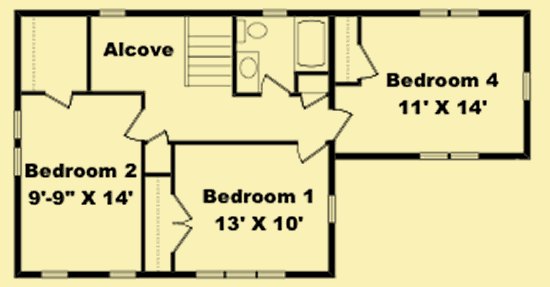door: (167, 194, 193, 255), (354, 43, 380, 82), (121, 109, 145, 145), (329, 107, 354, 140), (40, 87, 76, 109), (296, 140, 326, 166), (261, 71, 291, 96), (299, 93, 330, 111), (144, 130, 172, 144)
large_sink: (237, 16, 269, 47)
small_sink: (235, 50, 261, 93)
stairs: (184, 15, 232, 89)
tub: (293, 16, 328, 70)
window: (192, 269, 286, 279), (11, 108, 25, 175), (418, 150, 480, 165), (419, 6, 481, 19), (97, 4, 129, 17), (327, 191, 338, 227), (523, 68, 533, 106), (41, 268, 68, 281), (104, 268, 137, 277)
